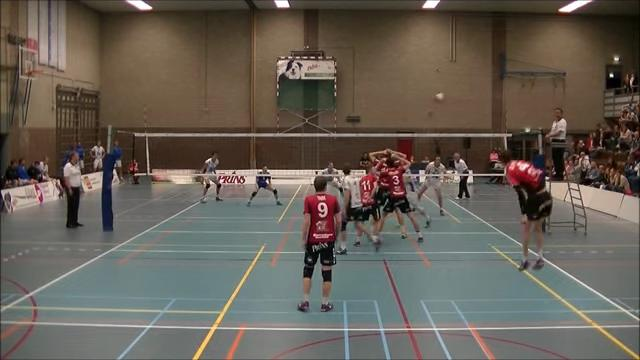battuta: (493, 148, 552, 272)
